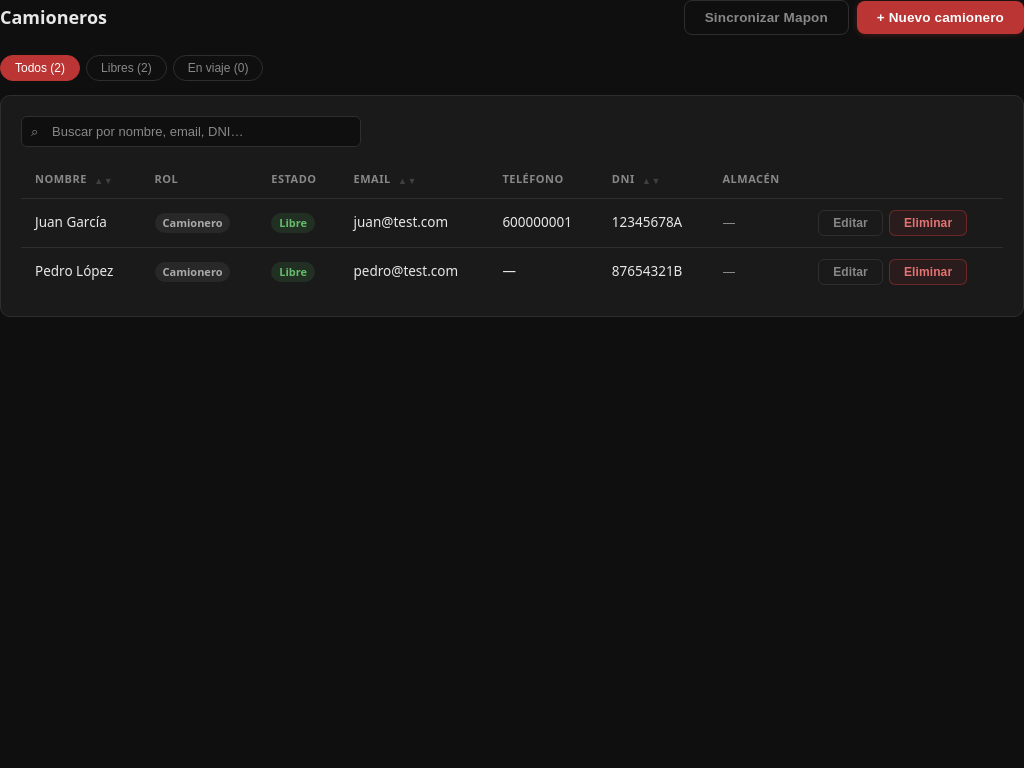
it: abre el modal al hacer clic en Nuevo camionero
Check: the text "Juan García" is shown, box [21,198,140,247]
Click the button "+ Nuevo camionero". click: click(940, 18)
box: [857,1,1023,34]
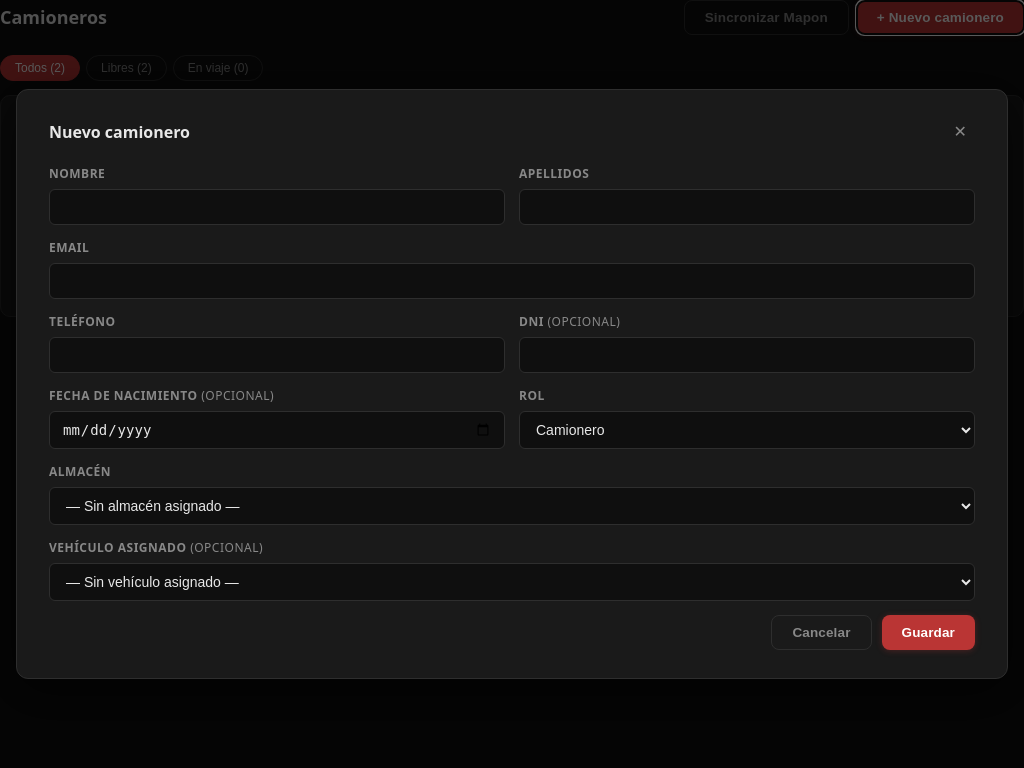
Check: the heading "Nuevo camionero" is shown, box [49,120,190,144]
Check: the button "Guardar" is shown, box [882,615,975,650]
